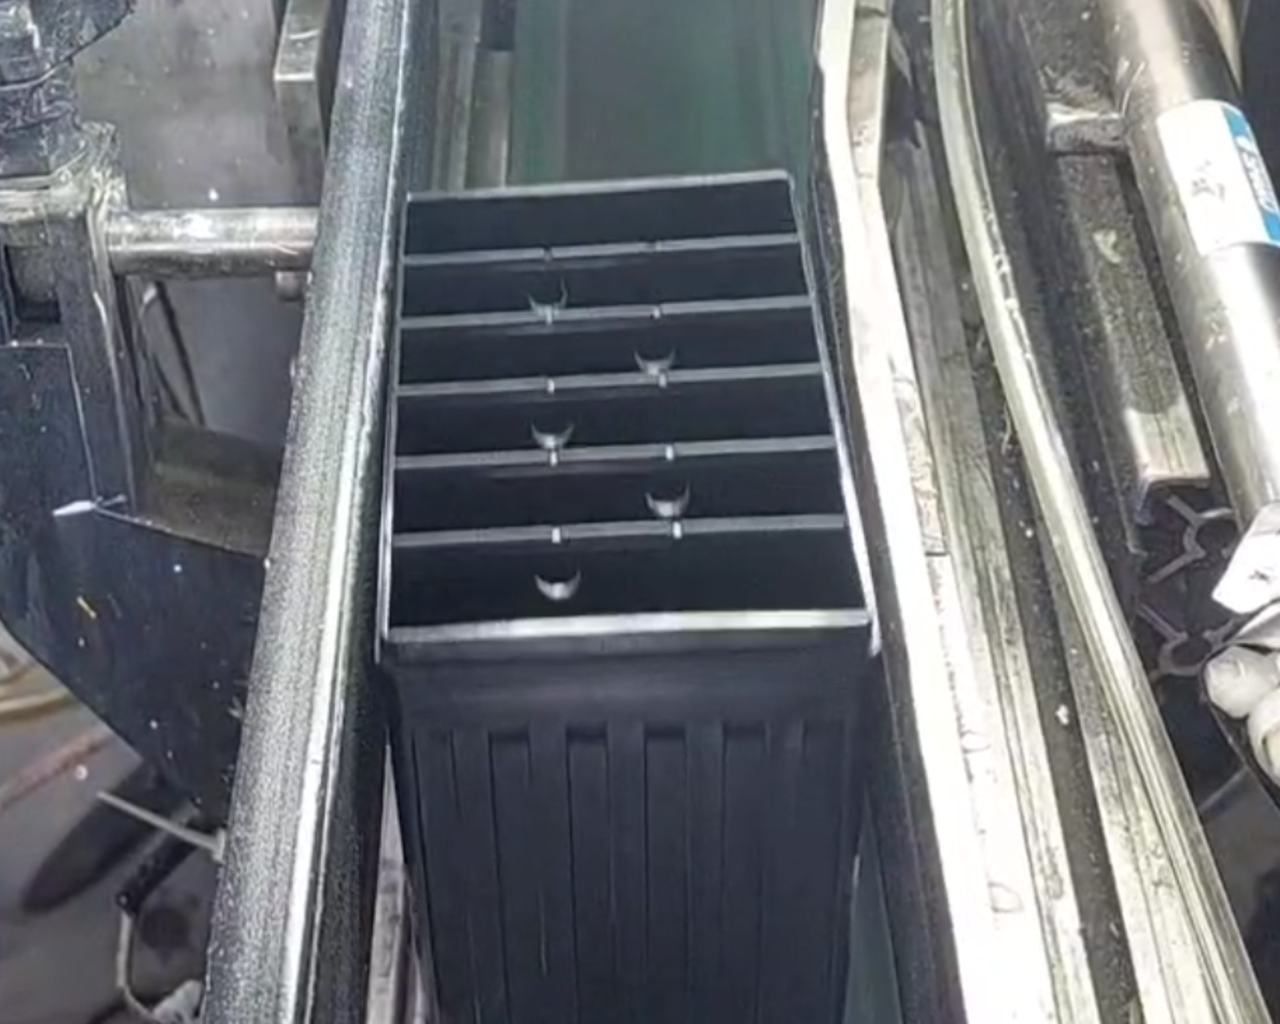box: (362, 158, 897, 683)
round: (525, 554, 592, 608), (635, 471, 698, 526), (627, 328, 684, 378), (523, 408, 582, 453), (516, 273, 575, 316)
